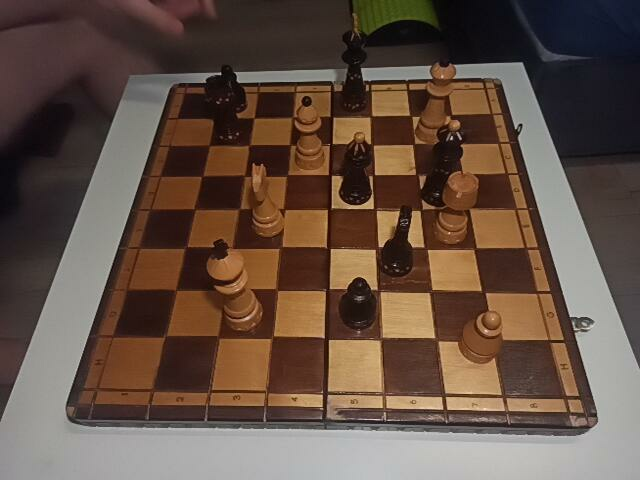B-Bishop: (340, 131, 372, 204)
B-King: (339, 12, 368, 112)
B-Knight: (380, 205, 414, 276)
B-Pawn: (339, 278, 377, 332), (216, 64, 248, 114)
B-Queen: (424, 120, 464, 207)
B-Rook: (203, 77, 245, 143)
W-Bishop: (293, 96, 327, 172)
W-King: (204, 238, 263, 330)
W-Knight: (246, 164, 285, 236)
W-Pawn: (459, 310, 503, 364)
W-Queen: (416, 55, 455, 144)
W-Rook: (433, 171, 479, 244)
